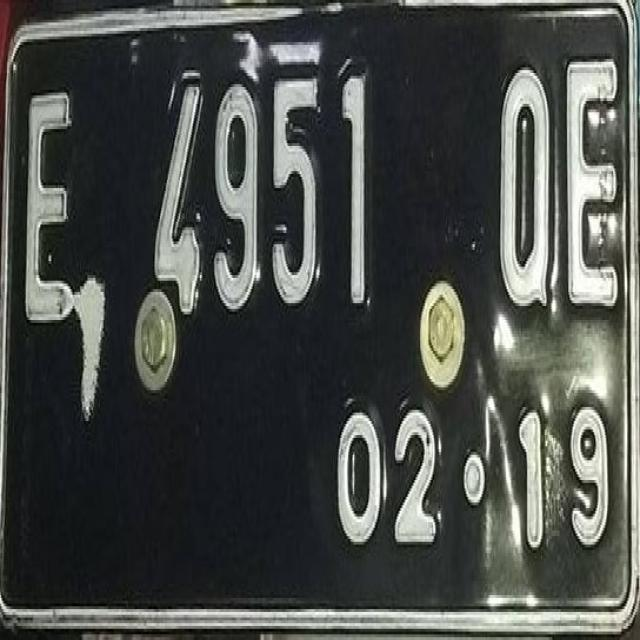plate: (3, 11, 638, 637)
